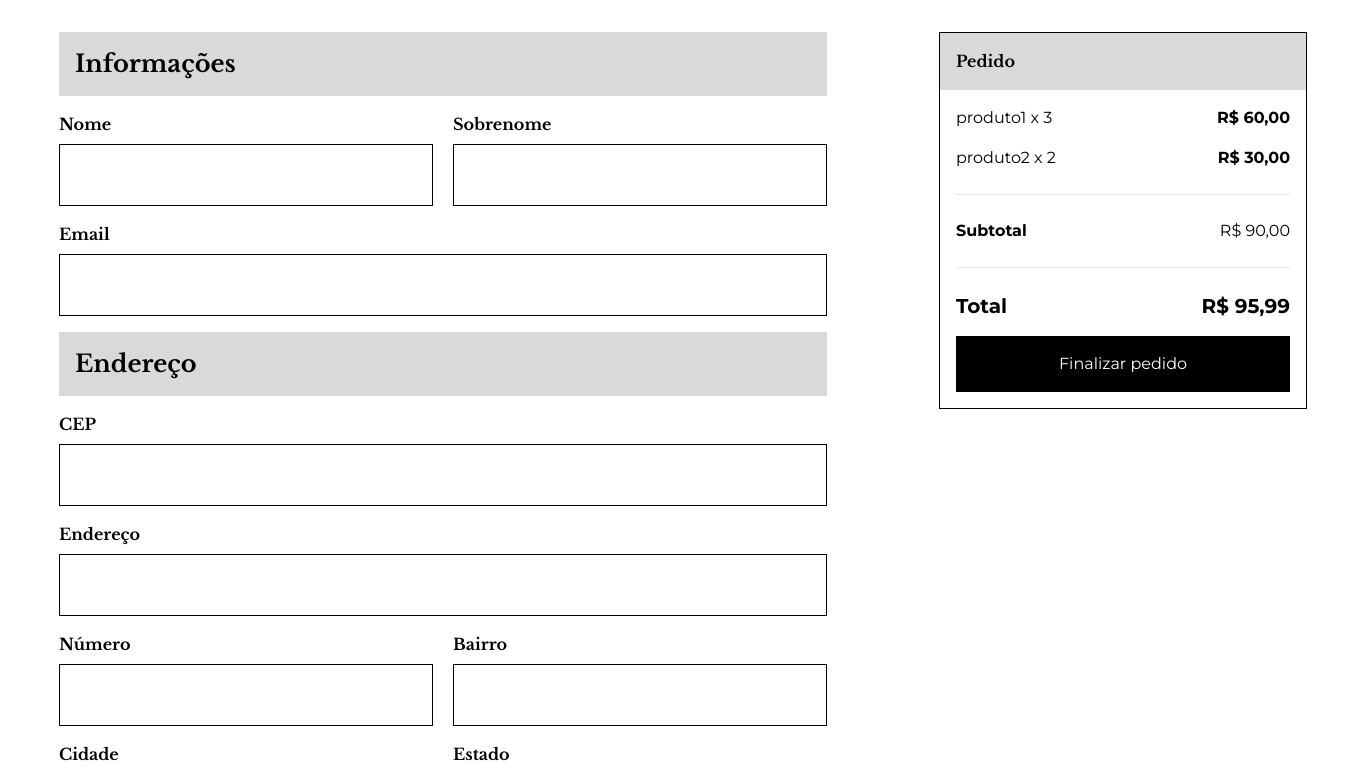
Test: Checkout › should not submit the form when a field has an error
Click the button "Finalizar pedido".
click(1123, 364)  # box [956, 336, 1290, 392]
(page scrolled)
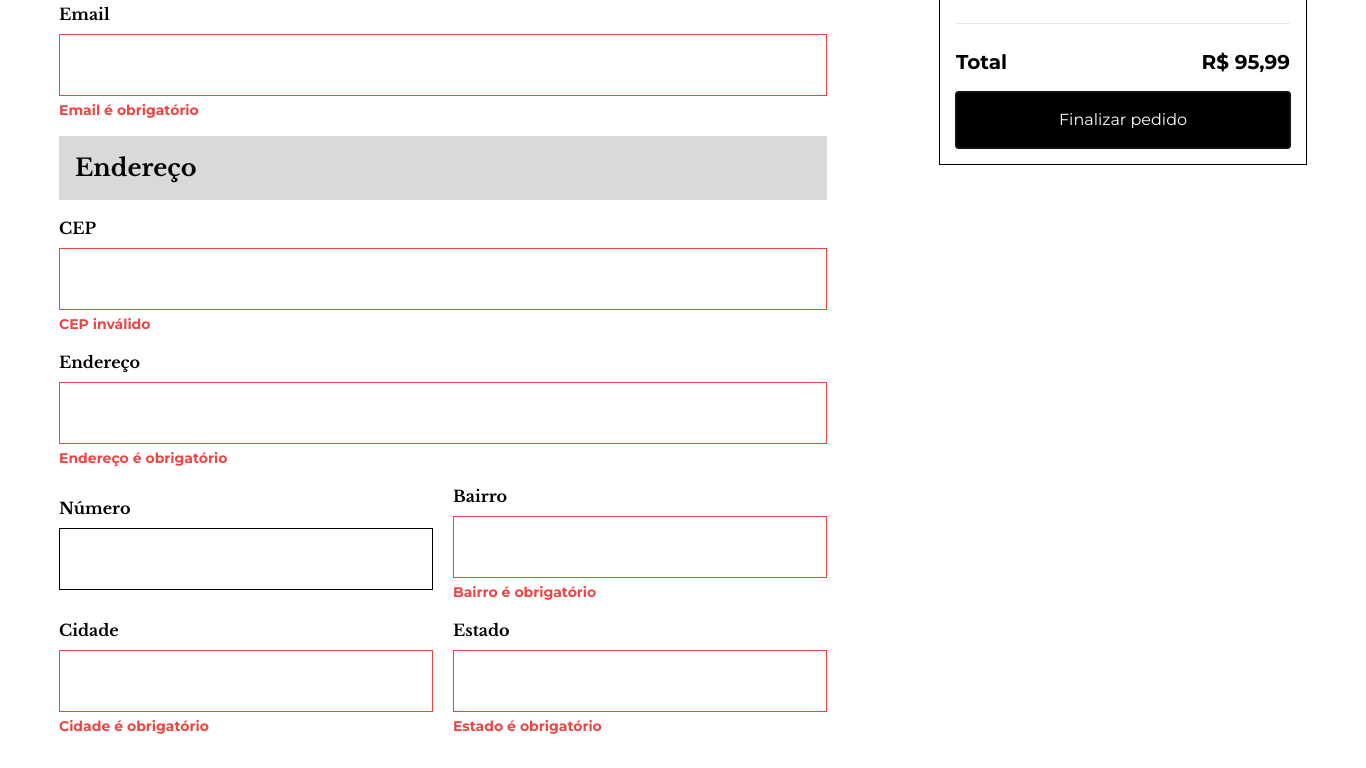
Check: the text "Email é obrigatório" is shown, box [59, 101, 199, 119]
Check: the text "CEP inválido" is shown, box [59, 315, 150, 333]
Check: the text "Endereço é obrigatório" is shown, box [59, 449, 227, 467]
